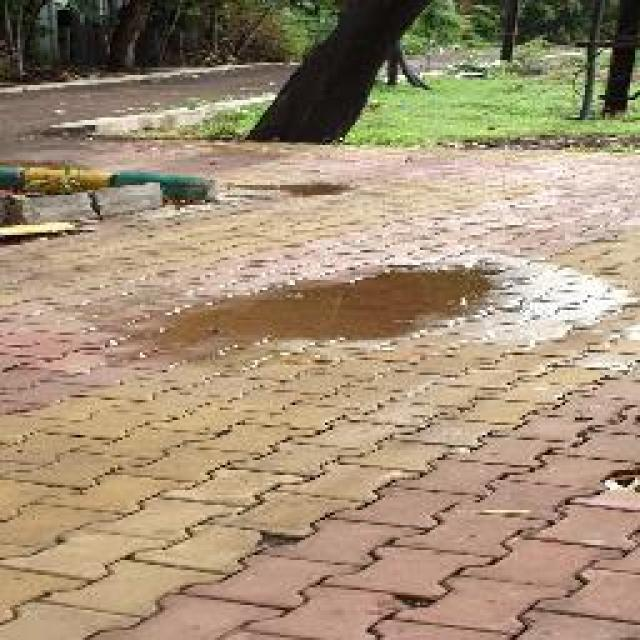waterlogging: (201, 257, 494, 350)
